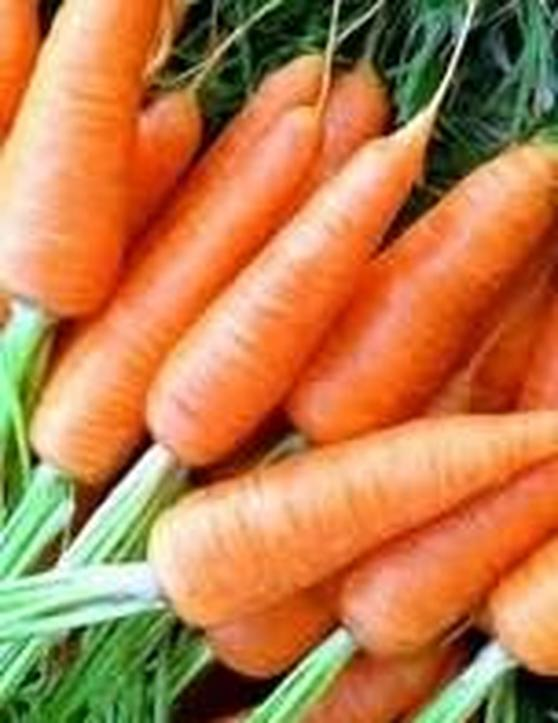carrot: (33, 84, 336, 480), (144, 105, 438, 473), (156, 413, 558, 624)
